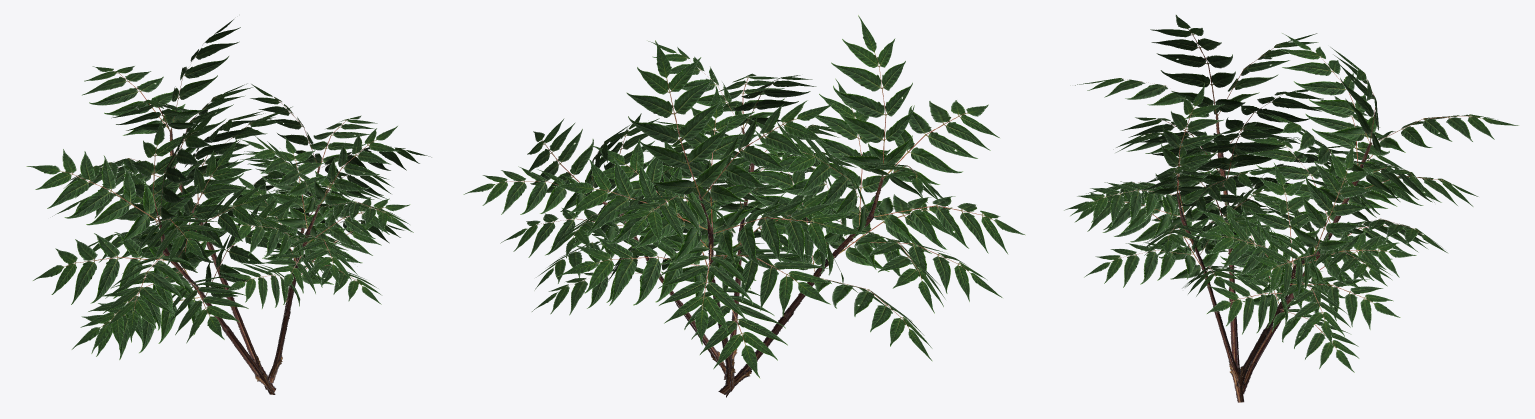
Rendered from Bush.fbx.
3 views of the same model, side by side, from view 1: azimuth 30°, elevation 25°; view 2: azimuth 150°, elevation 25°; view 3: azimuth 270°, elevation 25° (orthographic). The views are drawn at different scales.
Parts seen in each view (by area): view 1: polySurface10; view 2: polySurface10; view 3: polySurface10.
Boxes of the visible parts, bbox=[...] form: polySurface10: bbox=[26, 19, 431, 394]; polySurface10: bbox=[463, 15, 1025, 397]; polySurface10: bbox=[1064, 15, 1518, 402].
Bounding box in the file's own units: 9.68 × 8.05 × 9.16.
Materials: 1 (1 with a texture image).
